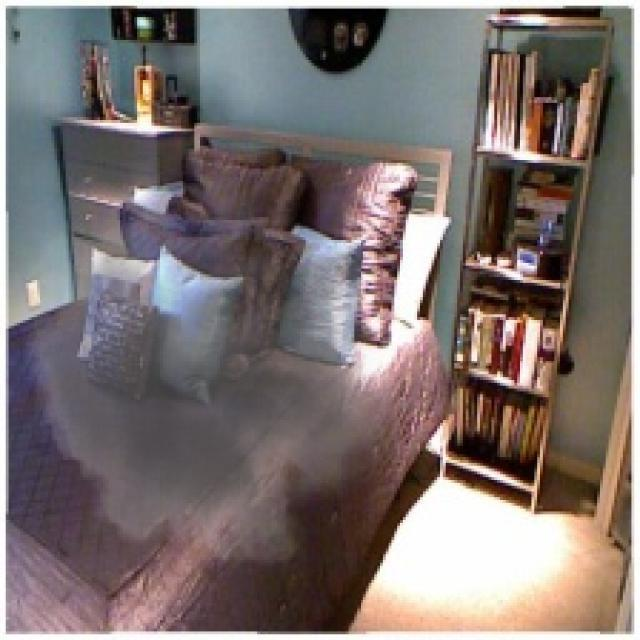Smoke: (8, 160, 394, 586)
